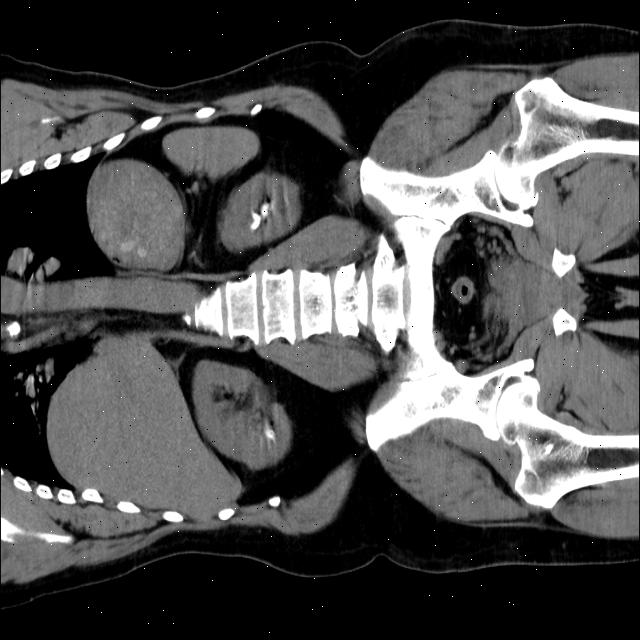kidneystone: (250, 200, 270, 231), (266, 430, 276, 439)
